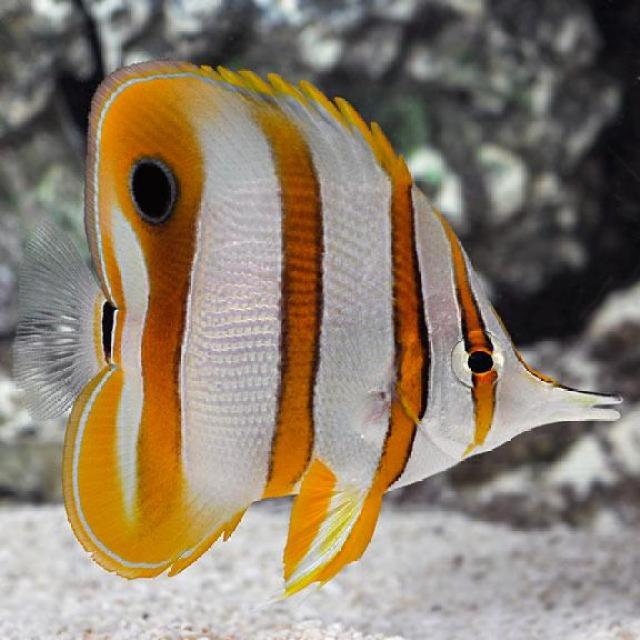ButterflyFish: (27, 62, 620, 580)
